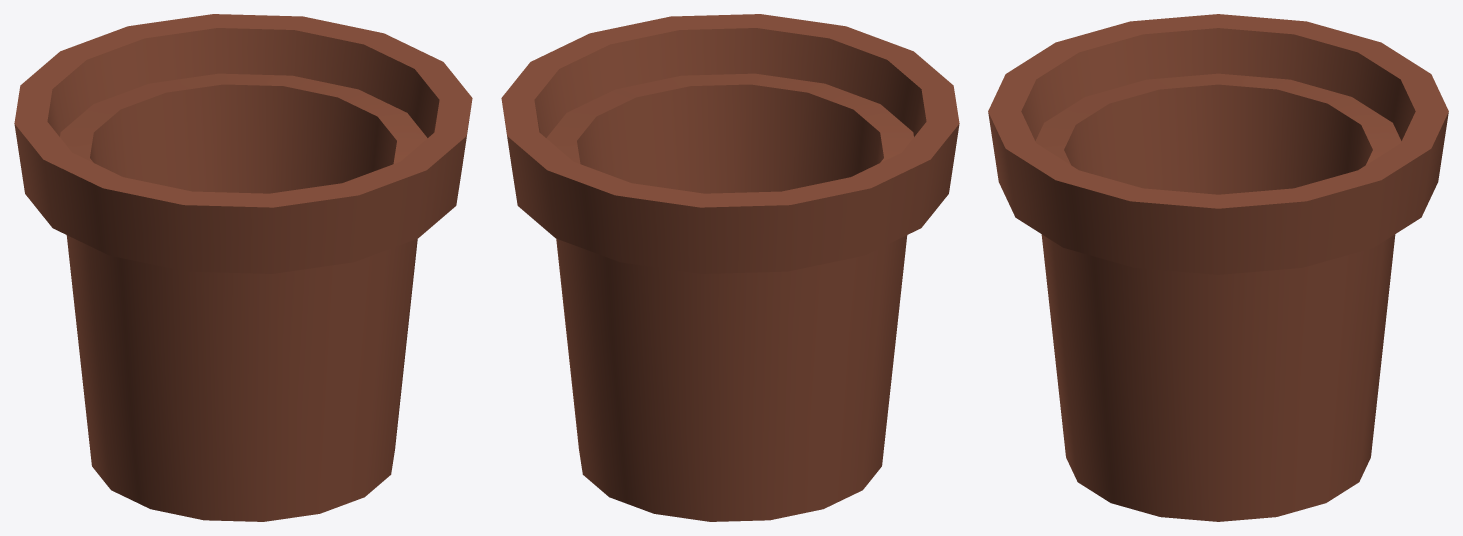
File: decor_pot.fbx
The picture shows the model from 3 angles, left to right: view 1: azimuth 30°, elevation 25°; view 2: azimuth 150°, elevation 25°; view 3: azimuth 270°, elevation 25°; orthographic projection.
Visible parts, largest first — view 1: decor_pot; view 2: decor_pot; view 3: decor_pot.
Part boxes in pixels (x1,y1,x2,y2): decor_pot: (14, 14, 472, 521); decor_pot: (501, 14, 959, 521); decor_pot: (988, 14, 1448, 521).
Bounding box in the file's own units: 25.57 × 21.2 × 25.57.
